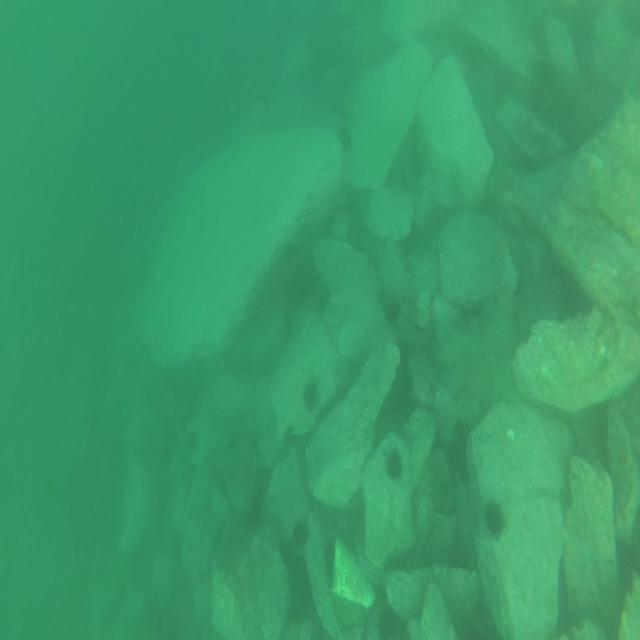echinus: (486, 500, 506, 536), (292, 516, 310, 550), (387, 447, 404, 482), (302, 382, 318, 411)
